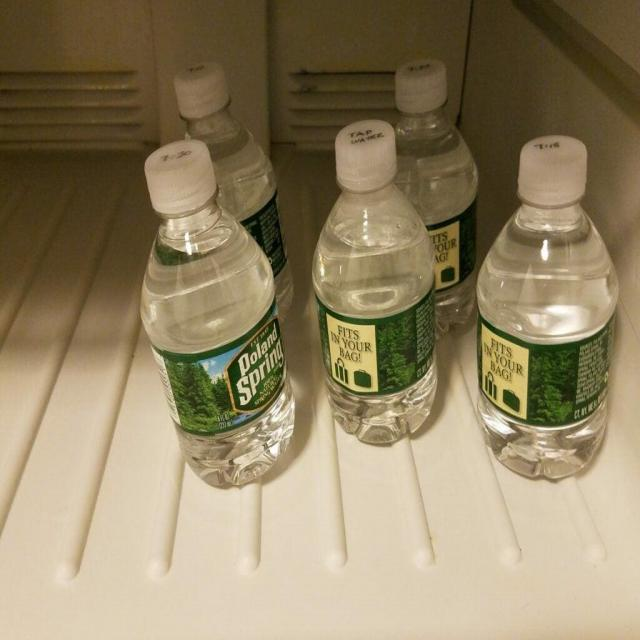bottle: (465, 121, 633, 496)
